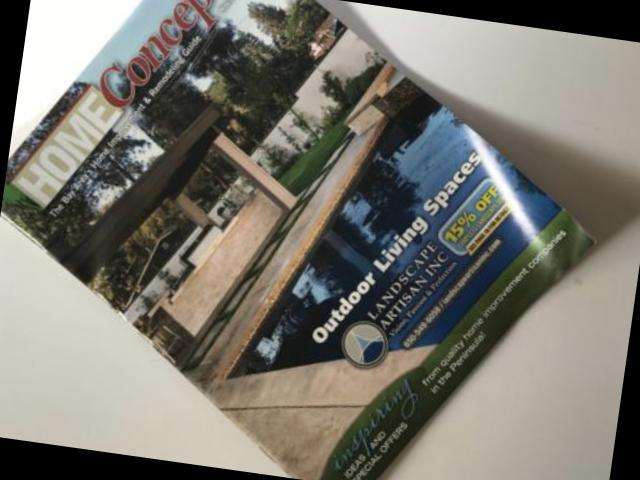cardboard paper: (0, 0, 599, 480)
